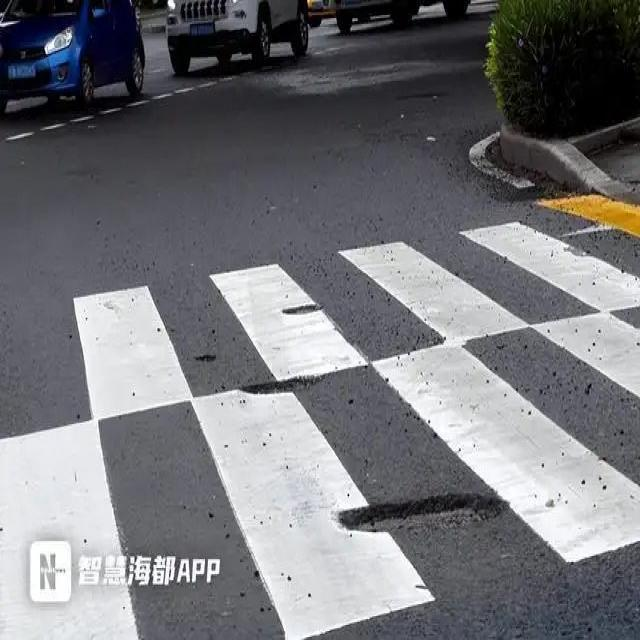Pothole: (334, 492, 503, 532), (237, 378, 319, 398), (283, 297, 322, 319), (397, 88, 444, 106)
